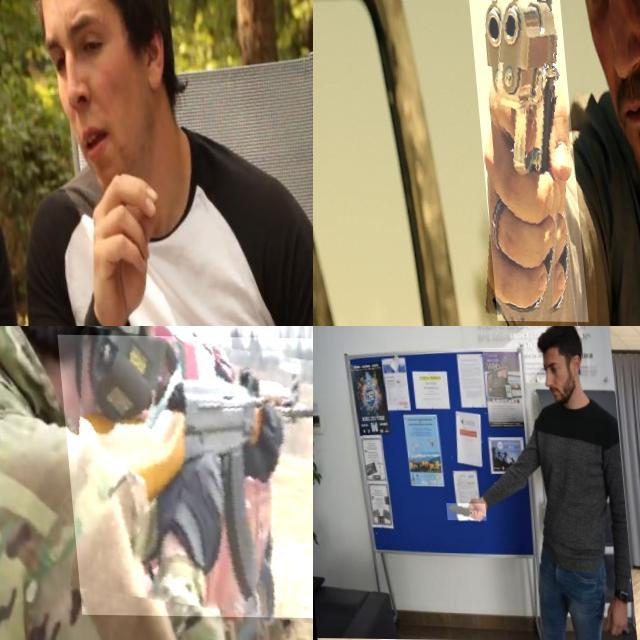-: (0, 191, 41, 326), (443, 503, 483, 521)
gun-knife-thesis - v11 Yolov5 augmented: (53, 333, 313, 617), (463, 0, 578, 321)
